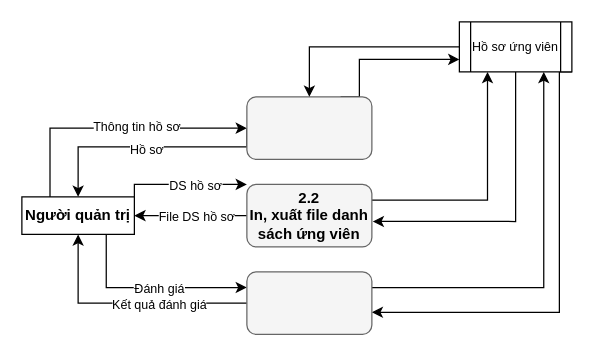
Image size: 604x356. Some labels were removed from this diagram. The box of each missing label's shape, as (x1, y1, x2, y2) in pixels:
2.1 Tìm kiếm hồ sơ ứng viên: (246, 96, 372, 159)
2.3 Đánh giá CV ứng viên: (246, 271, 372, 334)
